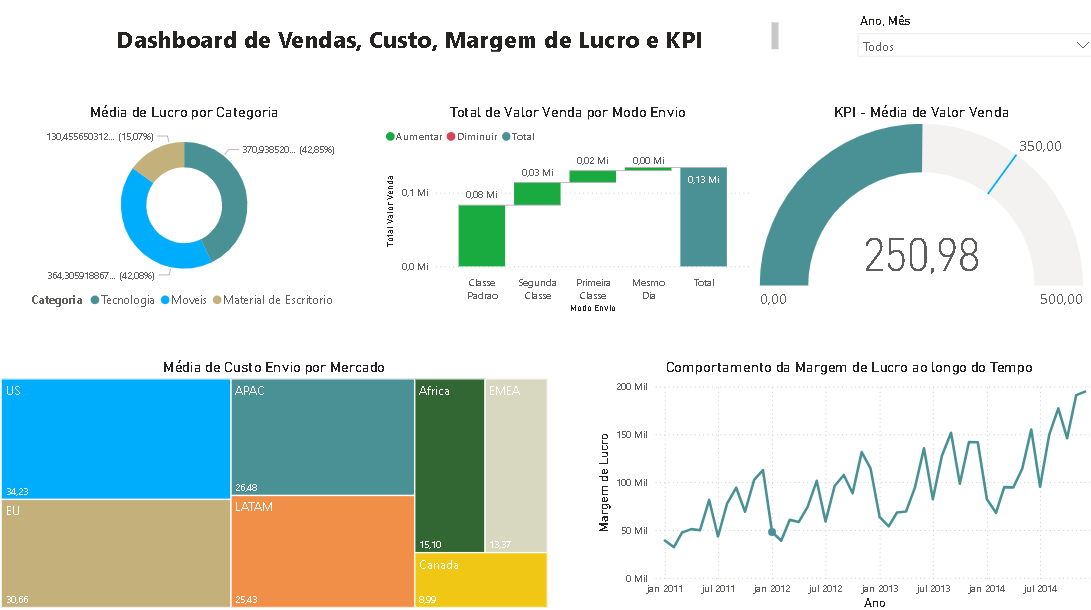

Layout of this report page (visuals, bound fields, positions):
{"tool":"powerbi","page":{"name":"Lab2","canvas":[1280,720],"ordinal":0},"visuals":[{"type":"waterfallChart","title":"Total de Valor Venda por Modo Envio","fields":{"Category":["Pedidos.Modo Envio"],"Y":["Sum(Vendas.Valor Venda)"]},"box":[443.6,128.9,431.3,246.6],"z":0},{"type":"treemap","fields":{"Group":["Clientes.Mercado"],"Values":["Avg(Vendas.Custo Envio)"]},"box":[0,423.1,640,292.9],"z":1000},{"type":"gauge","title":"KPI - Média de Valor Venda","fields":{"Y":["Avg(Vendas.Valor Venda)"]},"box":[874.9,128.9,384.2,246.6],"z":2000},{"type":"slicer","title":"F","fields":{"Values":["Pedidos.Data Pedido.Variation.Hierarquia de datas.Ano","Pedidos.Data Pedido.Variation.Hierarquia de datas.Mês"]},"box":[983.1,20.3,291.5,66.4],"z":3000},{"type":"donutChart","fields":{"Category":["Produtos.Categoria"],"Y":["Avg(Vendas.Lucro)"]},"box":[0,128.9,432.5,246.6],"z":4000},{"type":"lineChart","title":"Comportamento da Margem de Lucro ao longo do Tempo","fields":{"Category":["Pedidos.Data Pedido.Variation.Hierarquia de datas.Ano","Pedidos.Data Pedido.Variation.Hierarquia de datas.Trimestre","Pedidos.Data Pedido.Variation.Hierarquia de datas.Mês","Pedidos.Data Pedido.Variation.Hierarquia de datas.Dia"],"Y":["Sum(Vendas.MargemLucro)"]},"box":[686.1,423.1,593.9,295.6],"z":5000},{"type":"textbox","box":[132.7,31.2,774.2,43.8],"z":6000}]}

Visuals, with their boxes in screenshot pixels (x1, y1, x2, y2), scaled from the page's 1280x720 canvas onto the 1091x610 screenshot:
"Total de Valor Venda por Modo Envio" waterfallChart: 378:109:746:318
treemap - Clientes.Mercado x Avg(Vendas.Custo Envio): 0:358:546:607
"KPI - Média de Valor Venda" gauge: 746:109:1073:318
"F" slicer: 838:17:1086:73
donutChart - Produtos.Categoria x Avg(Vendas.Lucro): 0:109:369:318
"Comportamento da Margem de Lucro ao longo do Tempo" lineChart: 585:358:1090:609
textbox: 113:26:773:64
